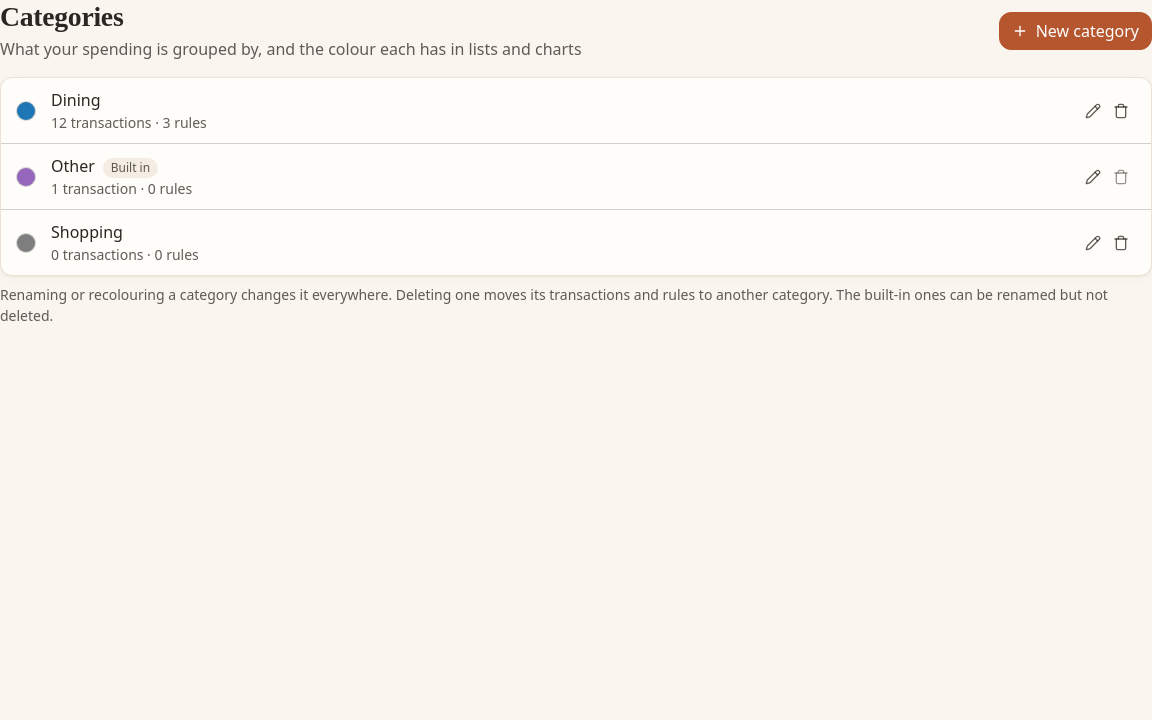
CategoryListComponent › deletes after asking where its transactions and rules go, and says where they went
Step 1. Click the button named "Delete Dining" → point(1121, 111), box [1107,97,1135,125]
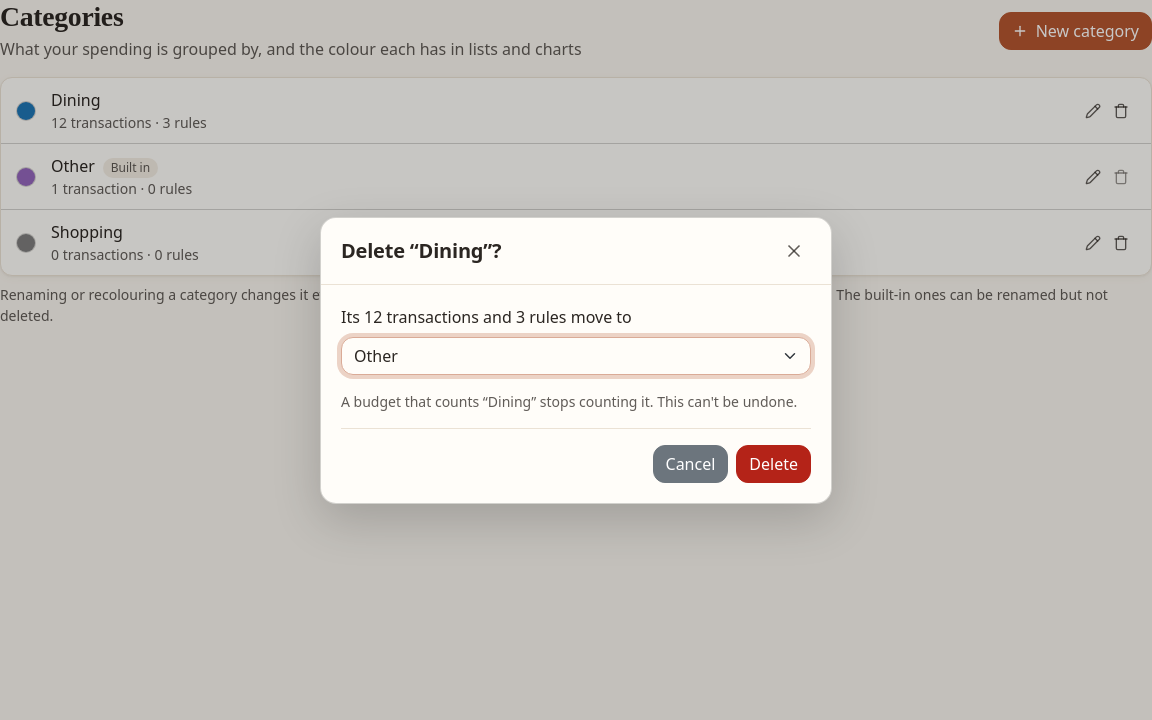
Expected: the dialog shows "Delete “Dining”?", [341,236,501,264]
